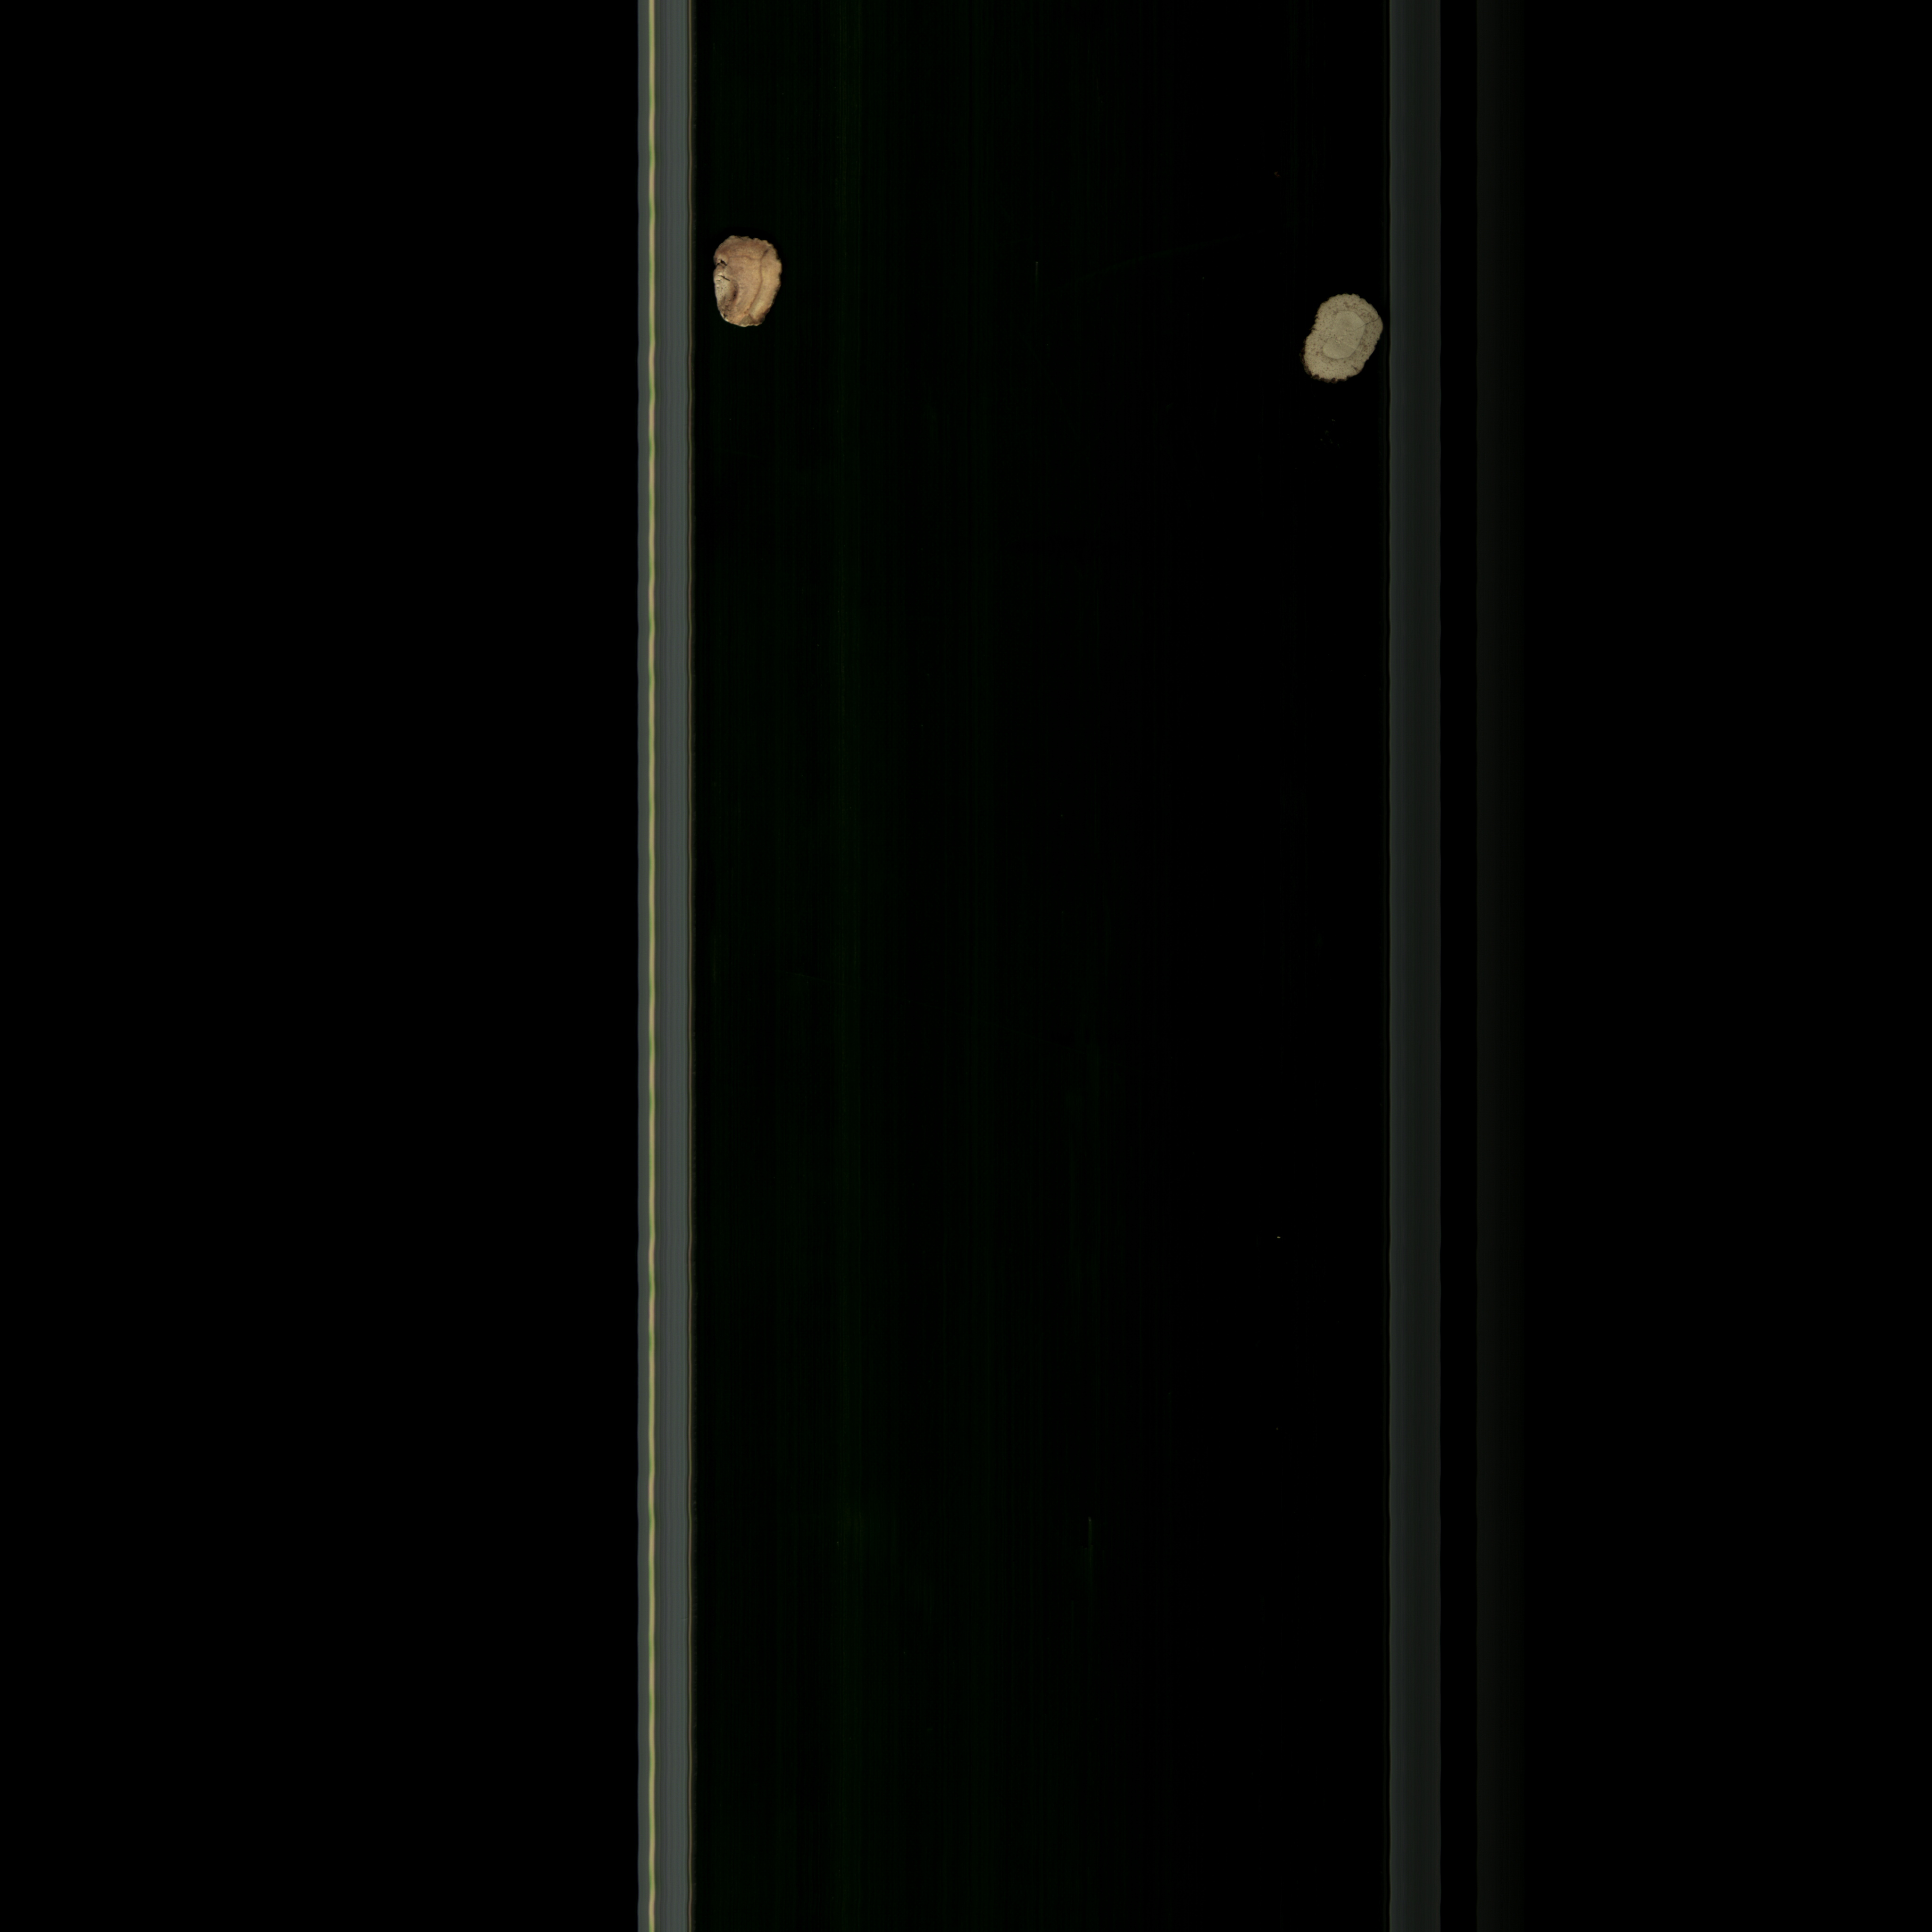distortion: (1299, 283, 1384, 395)
moldy: (709, 228, 787, 336)
